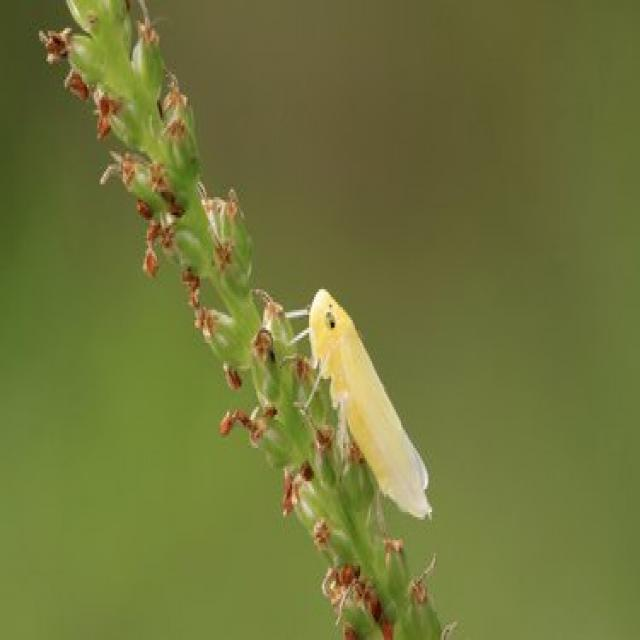Yechan: (292, 272, 439, 546)
